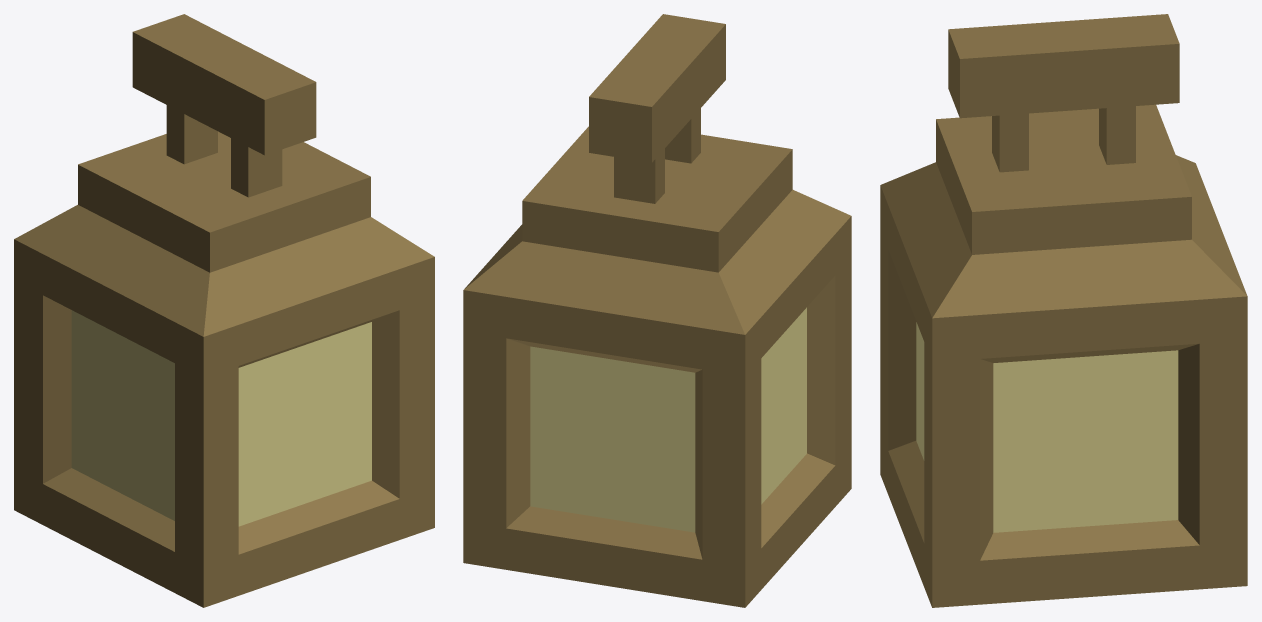
The model's file is GG_lantern3.fbx.
3 renders of one model, left to right at view 1: azimuth 30°, elevation 25°; view 2: azimuth 150°, elevation 25°; view 3: azimuth 270°, elevation 25°, orthographic. The views are drawn at different scales.
Parts seen in each view (by area): view 1: lantern; view 2: lantern; view 3: lantern.
Part boxes in pixels (x1,y1,x2,y2): lantern: (14,14,434,607); lantern: (463,14,851,607); lantern: (880,14,1247,607).
Bounding box in the file's own units: 28.08 × 28.08 × 41.67.
1 material, 1 textured.
